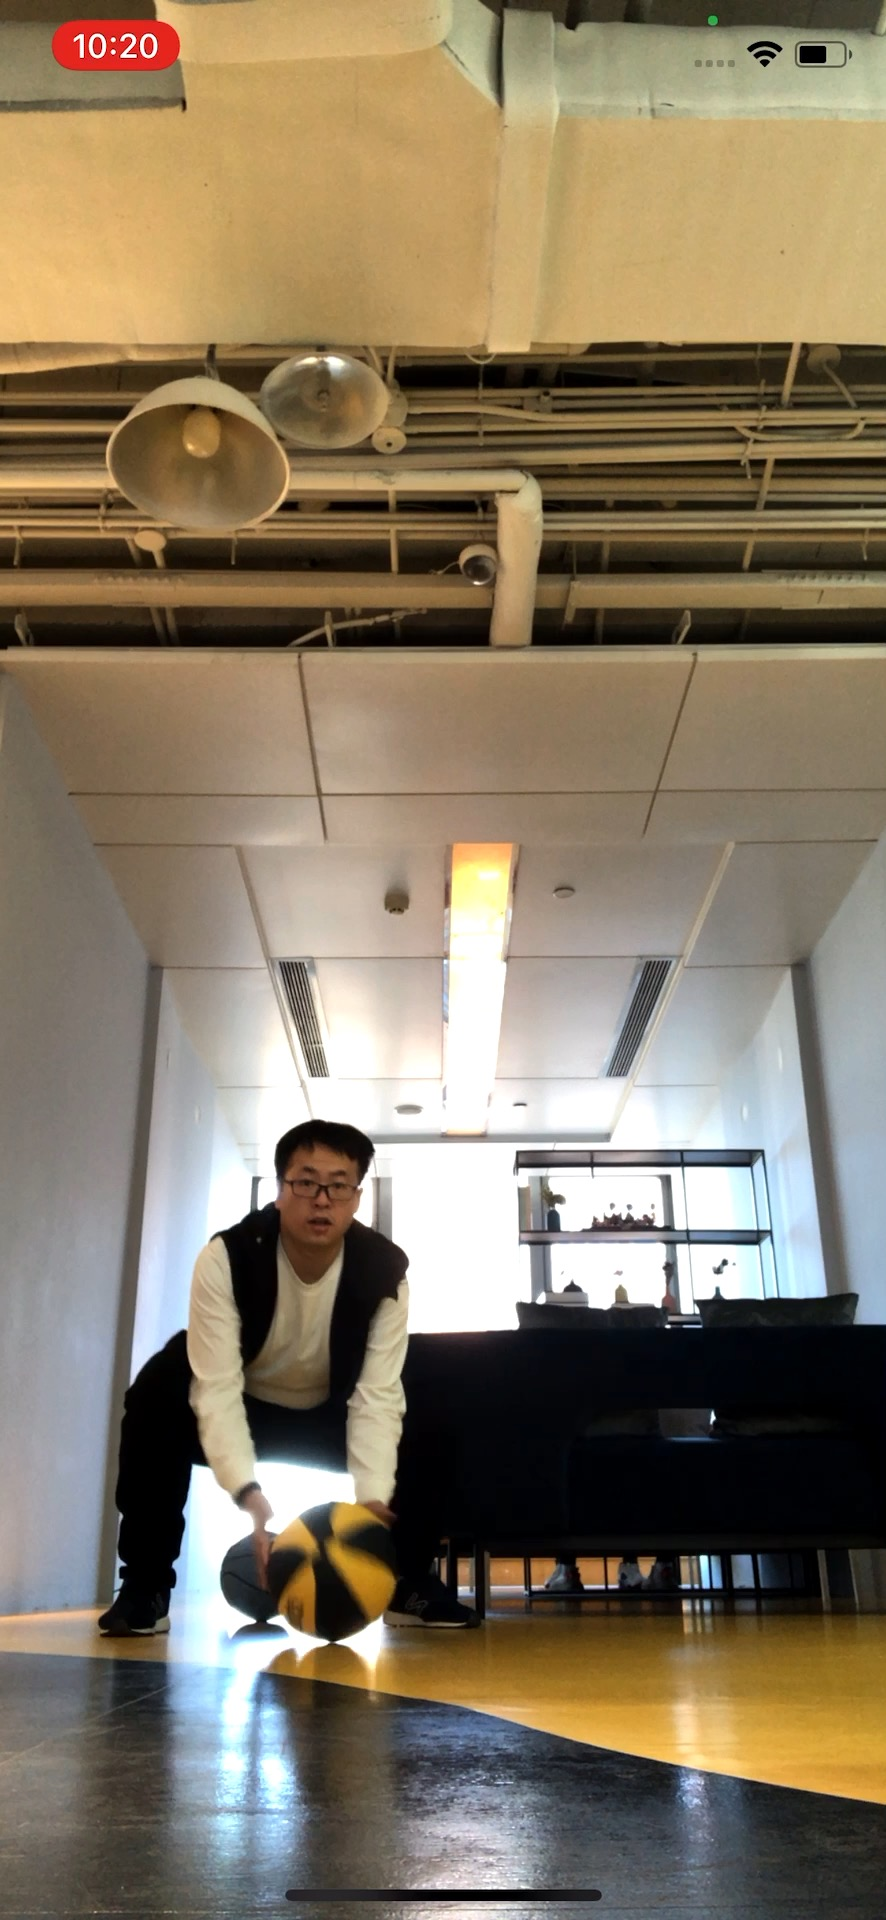ball: (267, 1502, 404, 1641)
